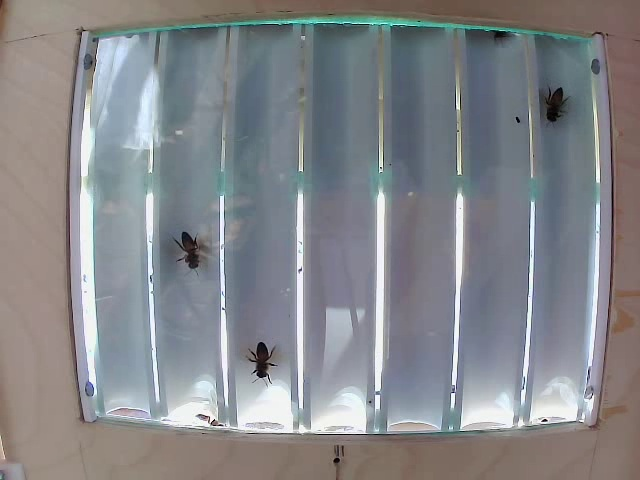bee: (184, 219, 208, 270), (250, 345, 278, 376)
